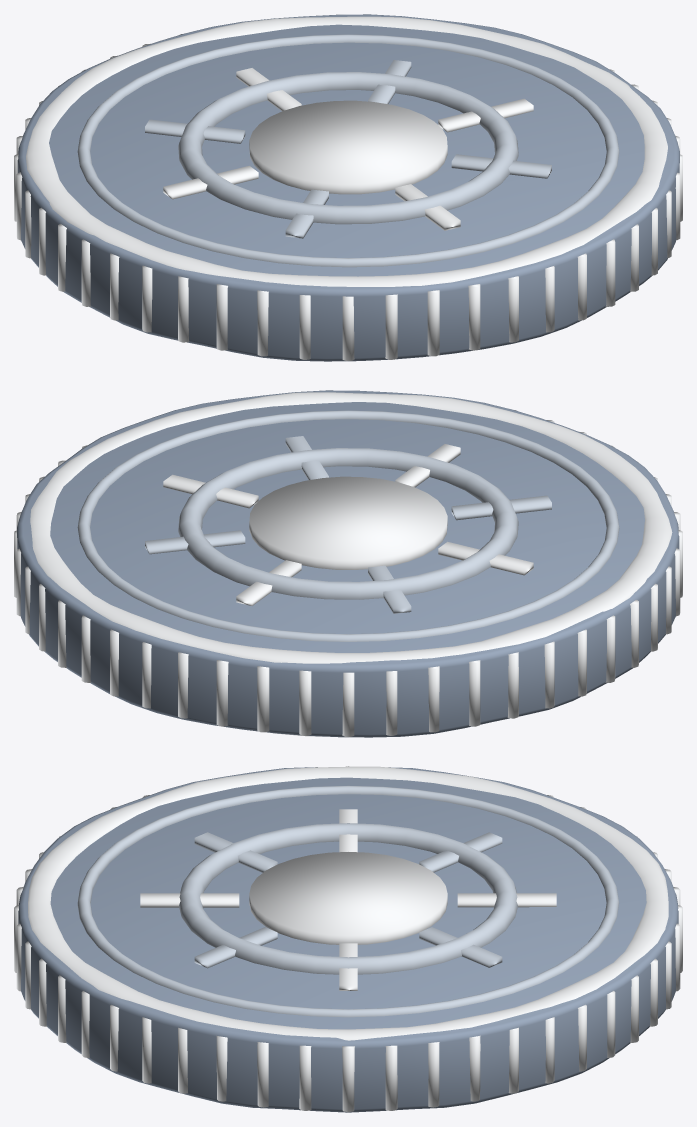
The model's file is token-silver_drachma.glb.
3 renders of one model, top to bottom at view 1: azimuth 30°, elevation 25°; view 2: azimuth 150°, elevation 25°; view 3: azimuth 270°, elevation 25°, orthographic.
Visible parts, largest first — view 1: TokenBody, TopRim, Cylinder, Torus.004, TopRim_Inner, Cube.007, Cube.003, Cube, Cube.004, Cube.006, EdgeReed_34, Cube.002 (+18 smaller); view 2: TokenBody, TopRim, Cylinder, Torus.004, TopRim_Inner, Cube.005, Cube.001, Cube, Cube.004, Cube.002, Cube.006, EdgeReed_14 (+18 smaller); view 3: TokenBody, TopRim, Cylinder, Torus.004, TopRim_Inner, Cube.006, Cube.002, Cube.007, Cube.005, Cube.001, Cube.003, EdgeReed_0 (+19 smaller).
Part boxes in pixels (bbox=[...]): TokenBody: bbox=[17, 14, 679, 361]; TopRim: bbox=[26, 16, 667, 286]; Cylinder: bbox=[249, 100, 447, 194]; Torus.004: bbox=[178, 72, 518, 224]; TopRim_Inner: bbox=[77, 34, 619, 267]; Cube.007: bbox=[451, 154, 551, 178]; Cube.003: bbox=[145, 119, 245, 143]; Cube: bbox=[438, 98, 533, 132]; Cube.004: bbox=[163, 165, 258, 199]; Cube.006: bbox=[395, 184, 460, 230]; EdgeReed_34: bbox=[427, 290, 439, 356]; Cube.002: bbox=[236, 68, 301, 111]; TokenBody: bbox=[17, 390, 679, 737]; TopRim: bbox=[30, 392, 672, 663]; Cylinder: bbox=[249, 476, 447, 569]; Torus.004: bbox=[178, 448, 518, 599]; TopRim_Inner: bbox=[77, 410, 619, 641]; Cube.005: bbox=[451, 495, 551, 520]; Cube.001: bbox=[145, 530, 245, 554]; Cube: bbox=[163, 474, 258, 508]; Cube.004: bbox=[438, 541, 533, 575]; Cube.002: bbox=[236, 560, 301, 605]; Cube.006: bbox=[395, 444, 460, 487]; EdgeReed_14: bbox=[257, 666, 269, 732]; TokenBody: bbox=[18, 767, 678, 1112]; TopRim: bbox=[28, 766, 668, 1040]; Cylinder: bbox=[249, 852, 447, 944]; Torus.004: bbox=[179, 823, 517, 974]; TopRim_Inner: bbox=[77, 785, 619, 1017]; Cube.006: bbox=[140, 893, 239, 907]; Cube.002: bbox=[457, 893, 556, 907]; Cube.007: bbox=[194, 927, 277, 968]; Cube.005: bbox=[194, 832, 277, 872]; Cube.001: bbox=[419, 927, 502, 967]; Cube.003: bbox=[419, 832, 502, 872]; EdgeReed_0: bbox=[342, 1046, 354, 1112].
Bounding box in the file's own units: 2.02 × 0.3181 × 2.02.
